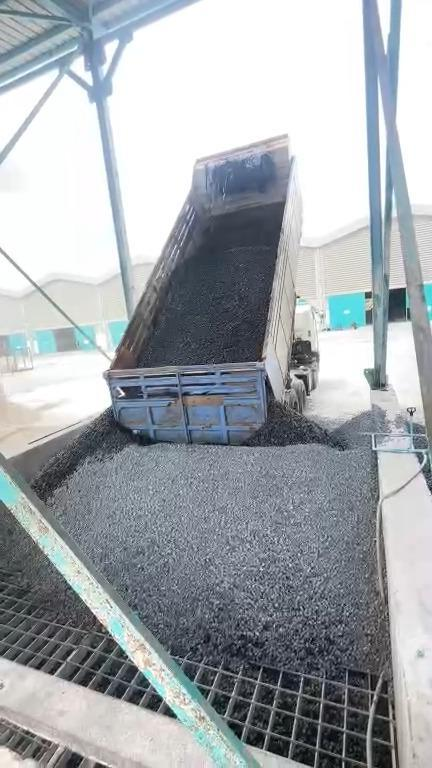gravel: (33, 402, 391, 672), (139, 204, 283, 366), (1, 510, 92, 623)
sand: (1, 395, 76, 455)
